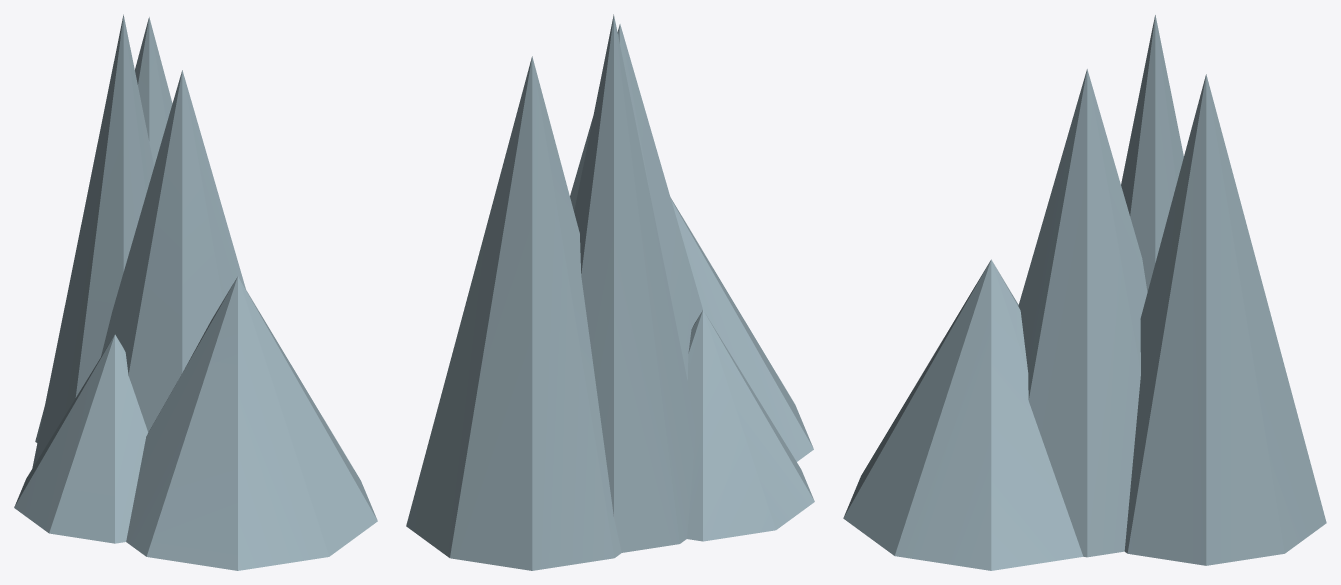
Rendered from ice_spire-07.glb.
The picture shows the model from 3 angles, left to right: view 1: azimuth 30°, elevation 25°; view 2: azimuth 150°, elevation 25°; view 3: azimuth 270°, elevation 25°; orthographic projection. The views are drawn at different scales.
Parts seen in each view (by area): view 1: world; view 2: world; view 3: world.
Boxes of the visible parts, bbox=[...] form: world: bbox=[14, 14, 377, 570]; world: bbox=[406, 14, 814, 570]; world: bbox=[843, 15, 1326, 570].
Size of the model in its own units: 1.01 by 1.51 by 1.39.
